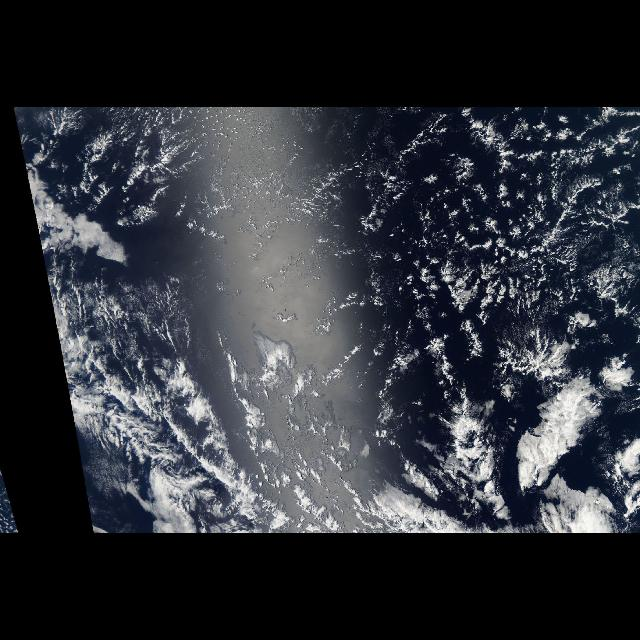Fish: (56, 153, 308, 533)
Gravel: (278, 112, 640, 394)
Sugar: (138, 108, 632, 308)
